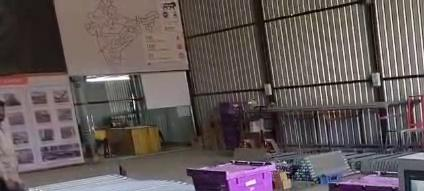box: (187, 162, 274, 190), (332, 175, 398, 190)
